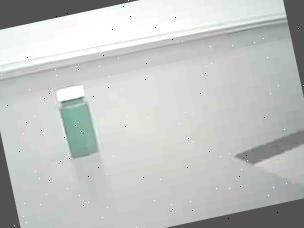Bottle C: (42, 73, 118, 176)
